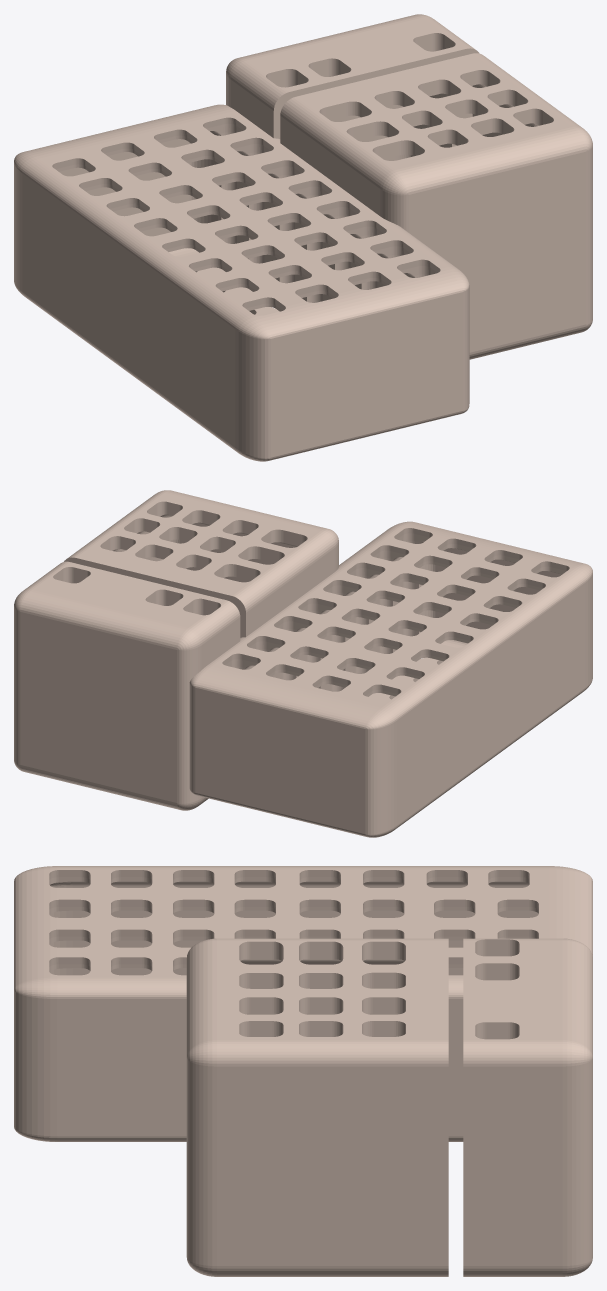
File: tinker.obj
The picture shows the model from 3 angles, top to bottom: view 1: azimuth 30°, elevation 25°; view 2: azimuth 150°, elevation 25°; view 3: azimuth 270°, elevation 25°; orthographic projection. The views are drawn at different scales.
Visible parts, largest first — view 1: obj_0; view 2: obj_0; view 3: obj_0.
Boxes of the visible parts, <box> form: obj_0: <box>14,14,592,461</box>; obj_0: <box>14,490,592,837</box>; obj_0: <box>14,866,592,1276</box>.
Size of the model in its own units: 87.3 by 40.15 by 89.8.
